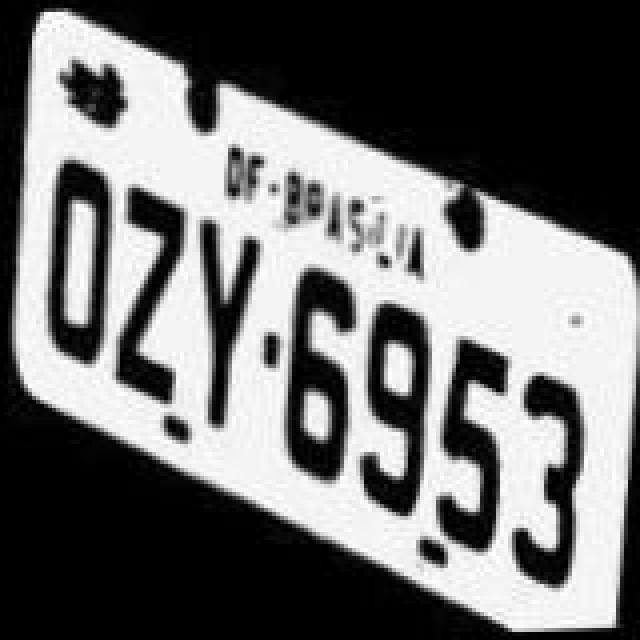3: (506, 364, 590, 604)
5: (428, 332, 512, 580)
6: (274, 258, 358, 506)
9: (348, 290, 432, 542)
O: (36, 150, 124, 394)
Y: (192, 210, 268, 466)
Z: (108, 174, 192, 430)
